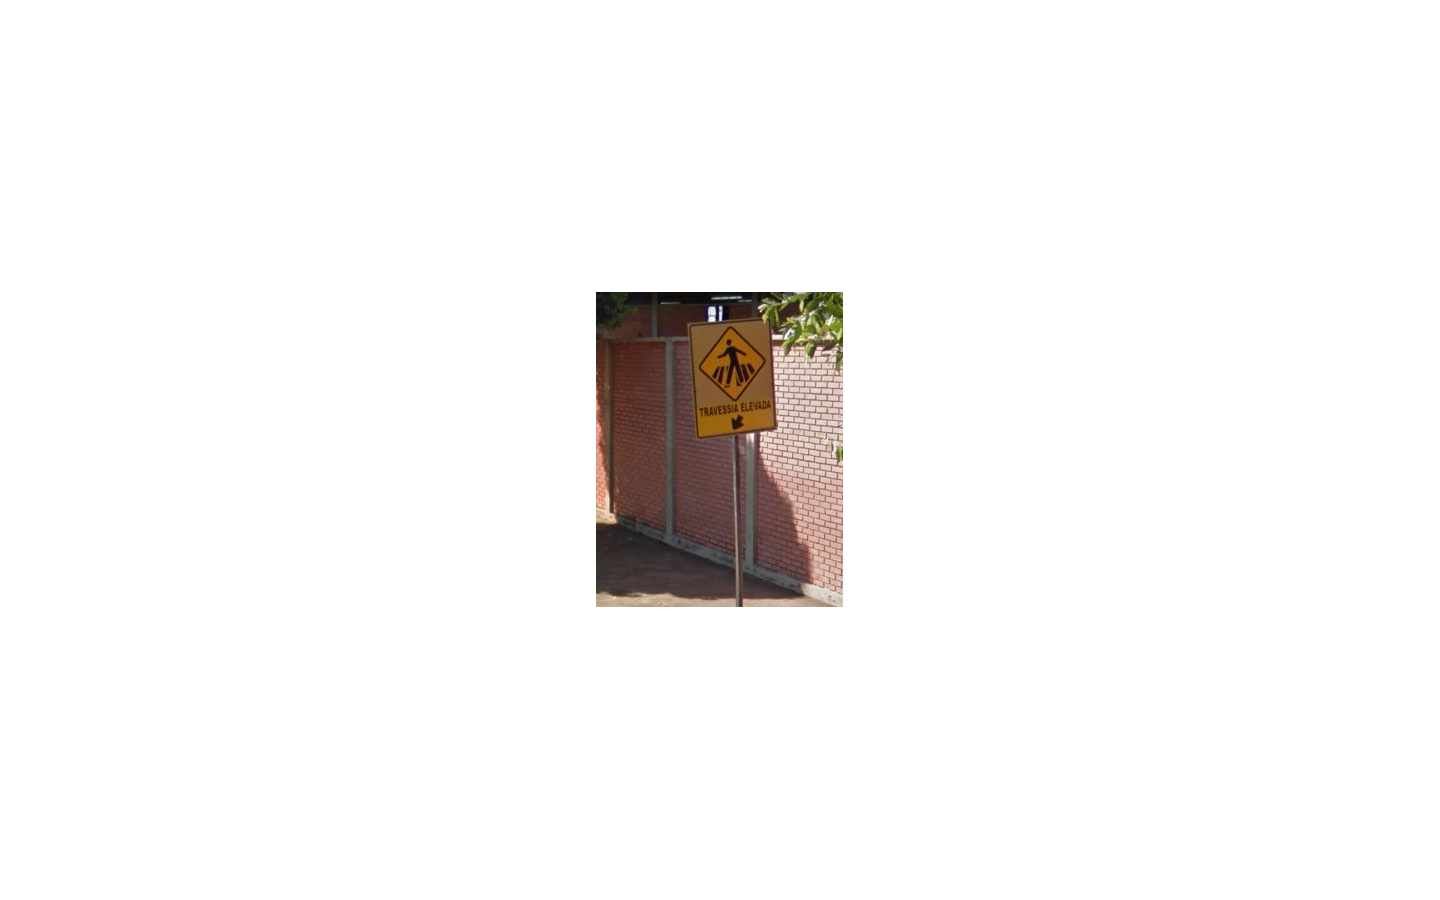telev: (686, 316, 777, 437)
